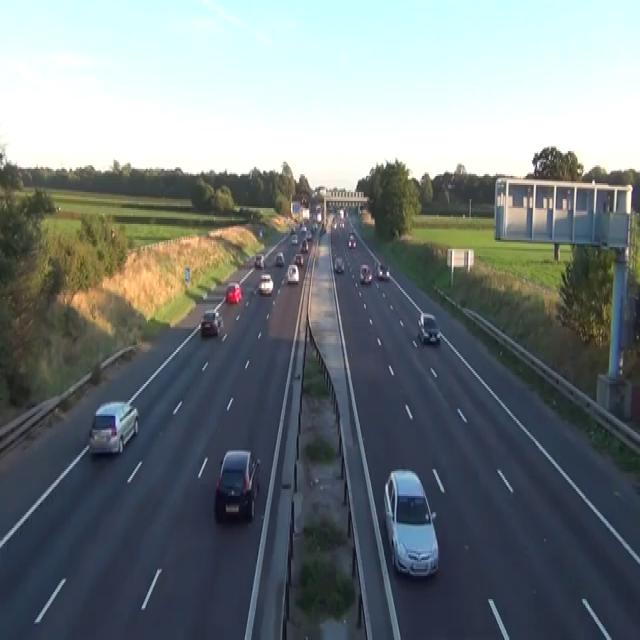Car: (383, 468, 439, 578), (214, 448, 261, 523), (88, 400, 139, 455), (417, 311, 440, 343), (200, 309, 223, 336), (225, 281, 242, 304), (258, 272, 273, 295), (375, 261, 390, 279), (359, 263, 372, 283), (286, 263, 299, 283), (333, 256, 344, 272), (254, 252, 265, 268), (275, 250, 284, 266), (293, 252, 303, 266), (348, 233, 356, 249), (300, 238, 308, 252), (290, 233, 298, 243), (305, 229, 312, 240), (319, 224, 326, 235), (328, 202, 335, 212), (301, 196, 308, 206), (311, 221, 318, 231), (55, 202, 61, 212), (338, 208, 344, 217), (339, 218, 344, 228), (331, 219, 336, 229), (300, 224, 307, 231), (446, 182, 454, 188), (290, 226, 295, 234), (259, 228, 262, 236)
